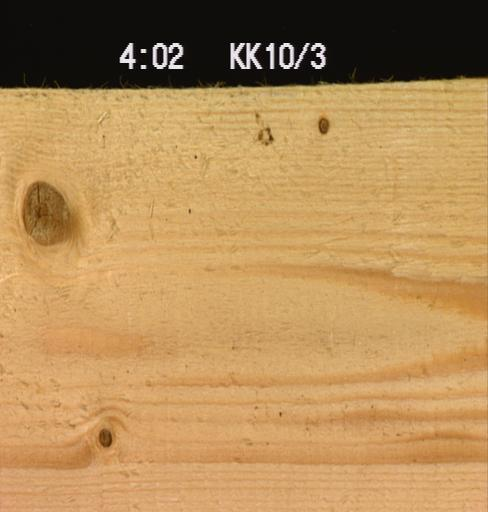dry_knot: (315, 113, 330, 135)
sound_knot: (18, 177, 73, 247), (94, 423, 113, 448)
